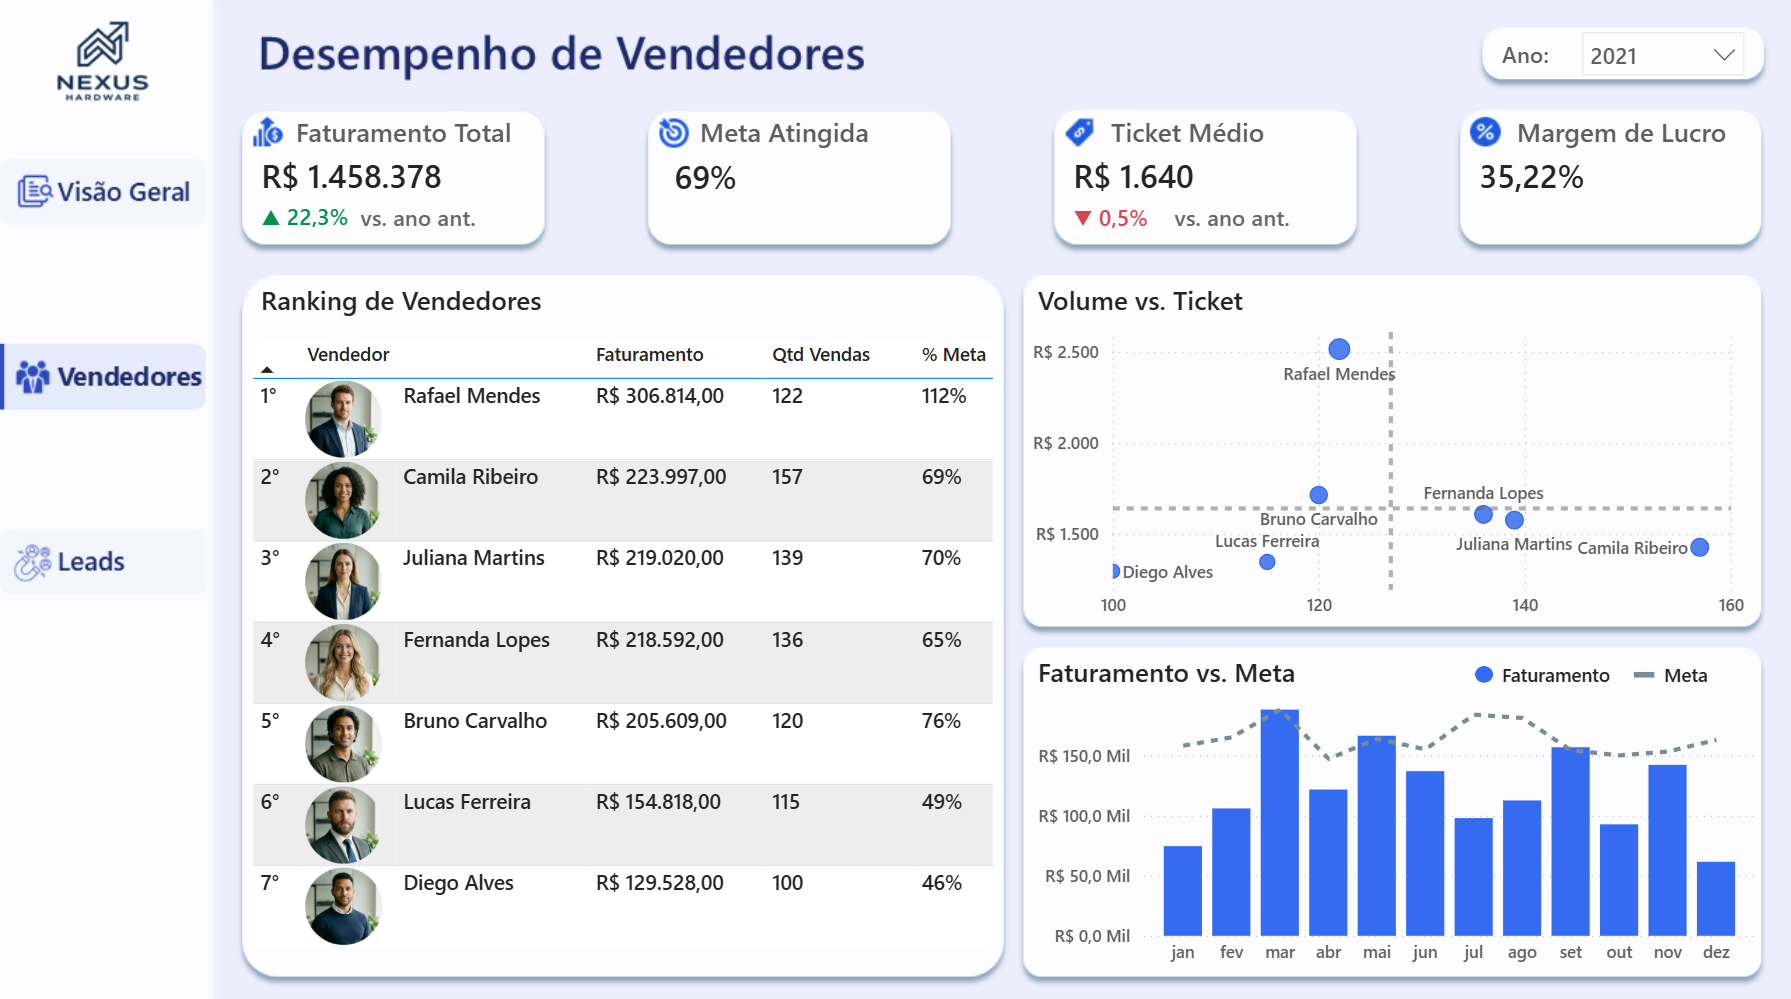

The dashboard page shown, as its layout file describes it:
{"tool":"powerbi","page":{"name":"Vendedores","canvas":[1280,720],"ordinal":2},"visuals":[{"type":"tableEx","fields":{"Values":["Medidas.Posição","dVendedores.Foto","dVendedores.Vendedor","Medidas.Faturamento Total","Medidas.Qtd Vendas","Medidas.% Meta de Receita Atingida"]},"box":[175,239,543,461],"z":0},{"type":"slicer","fields":{"Values":["dCalendario.Ano"]},"box":[1120,14,136,48],"z":1000},{"type":"cardVisual","fields":{"Data":["Medidas.Faturamento Total"]},"box":[157.5,93.8,248.8,63.8],"z":2000},{"type":"textbox","box":[206.7,77.5,171.7,44.2],"z":3000},{"type":"cardVisual","fields":{"Data":["Medidas.KPI Faturamento"]},"box":[157.9,127.1,170,55.5],"z":3000,"group":"g1"},{"type":"cardVisual","fields":{"Data":["Medidas.KPI Ticket Médio"]},"box":[737.7,127.7,170,55.5],"z":3000,"group":"g3"},{"type":"group","id":"g1","title":"Grupo 1","box":[157.9,127.1,170,55.5],"z":4000},{"type":"textbox","box":[1078.3,77.5,172.5,44.2],"z":4250},{"type":"textbox","box":[495,77.5,171.7,43.3],"z":4500},{"type":"cardVisual","fields":{"Data":["Medidas.Texto Auxiliar"]},"box":[228.8,123.8,145,62.5],"z":5000},{"type":"cardVisual","fields":{"Data":["Medidas.% Meta de Receita Atingida (KPI)"]},"box":[452.7,94,214,63.3],"z":6000},{"type":"cardVisual","fields":{"Data":["Medidas.% Margem de Lucro"]},"box":[1027.5,93.8,137.5,63.8],"z":8000},{"type":"group","id":"g2","title":"Grupo 2","box":[1053.8,469.4,226.6,29.5],"z":9000},{"type":"textbox","box":[788.8,77.5,172.5,43.8],"z":10000},{"type":"textbox","box":[181.2,197.5,263.8,38.8],"z":11000},{"type":"cardVisual","fields":{"Data":["Medidas.Ticket Médio"]},"box":[737.9,94.7,214.2,62.6],"z":12000},{"type":"lineClusteredColumnComboChart","title":"Titulo","fields":{"Y2":["Medidas.Meta Inteligente Anos/Meses"],"Category":["Tabela Eixo Ano/Meses.Rótulo"],"Y":["Medidas.Faturamento Inteligente Anos/Meses"]},"box":[736.7,494.4,522.2,205.6],"z":13000},{"type":"textbox","box":[736.7,463.5,264.2,38.3],"z":14000},{"type":"scatterChart","title":"Titulo","fields":{"X":["Medidas.Qtd Vendas"],"Y":["Medidas.Ticket Médio"],"Size":["Medidas.Faturamento Total"],"Category":["dVendedores.Vendedor"]},"box":[732.8,225.6,518.3,226.1],"z":16000},{"type":"textbox","box":[736.7,197.8,264.4,38.9],"z":17000},{"type":"group","id":"g3","title":"Grupo 1","box":[737.7,127.7,170,56.2],"z":18000},{"type":"cardVisual","fields":{"Data":["Medidas.Texto Auxiliar"]},"box":[810,123.8,143.8,63.8],"z":19000},{"type":"shape","box":[1053.8,477.1,13,12.1],"z":19000,"group":"g2"},{"type":"textbox","box":[1068,24,46,33],"z":20000},{"type":"textbox","box":[1067.9,469.4,96.5,29.5],"z":20000,"group":"g2"},{"type":"actionButton","box":[0,115.8,147.3,47.3],"z":21000},{"type":"shape","box":[1167.4,477.4,14.5,12.5],"z":21000,"group":"g2"},{"type":"actionButton","box":[0,247.7,147.3,46.9],"z":22000},{"type":"textbox","box":[1183.9,469.4,96.5,29.5],"z":22000,"group":"g2"},{"type":"actionButton","box":[0,378.1,147.3,46.9],"z":23000}]}

Visuals, with their boxes on the page's 1280x720 design canvas (x1, y1, x2, y2). These are canvas units, not pixel positions in the 1791x999 screenshot, which may show the page scaled, cropped or inside an application window:
tableEx - Medidas.Posição x dVendedores.Foto: (x1=175, y1=239, x2=718, y2=700)
slicer - dCalendario.Ano: (x1=1120, y1=14, x2=1256, y2=62)
cardVisual - Medidas.Faturamento Total: (x1=158, y1=94, x2=406, y2=158)
textbox: (x1=207, y1=78, x2=378, y2=122)
cardVisual - Medidas.KPI Faturamento: (x1=158, y1=127, x2=328, y2=183)
cardVisual - Medidas.KPI Ticket Médio: (x1=738, y1=128, x2=908, y2=183)
"Grupo 1" group: (x1=158, y1=127, x2=328, y2=183)
textbox: (x1=1078, y1=78, x2=1251, y2=122)
textbox: (x1=495, y1=78, x2=667, y2=121)
cardVisual - Medidas.Texto Auxiliar: (x1=229, y1=124, x2=374, y2=186)
cardVisual - Medidas.% Meta de Receita Atingida (KPI): (x1=453, y1=94, x2=667, y2=157)
cardVisual - Medidas.% Margem de Lucro: (x1=1028, y1=94, x2=1165, y2=158)
"Grupo 2" group: (x1=1054, y1=469, x2=1280, y2=499)
textbox: (x1=789, y1=78, x2=961, y2=121)
textbox: (x1=181, y1=198, x2=445, y2=236)
cardVisual - Medidas.Ticket Médio: (x1=738, y1=95, x2=952, y2=157)
"Titulo" lineClusteredColumnComboChart: (x1=737, y1=494, x2=1259, y2=700)
textbox: (x1=737, y1=464, x2=1001, y2=502)
"Titulo" scatterChart: (x1=733, y1=226, x2=1251, y2=452)
textbox: (x1=737, y1=198, x2=1001, y2=237)
"Grupo 1" group: (x1=738, y1=128, x2=908, y2=184)
cardVisual - Medidas.Texto Auxiliar: (x1=810, y1=124, x2=954, y2=188)
shape: (x1=1054, y1=477, x2=1067, y2=489)
textbox: (x1=1068, y1=24, x2=1114, y2=57)
textbox: (x1=1068, y1=469, x2=1164, y2=499)
actionButton: (x1=0, y1=116, x2=147, y2=163)
shape: (x1=1167, y1=477, x2=1182, y2=490)
actionButton: (x1=0, y1=248, x2=147, y2=295)
textbox: (x1=1184, y1=469, x2=1280, y2=499)
actionButton: (x1=0, y1=378, x2=147, y2=425)
